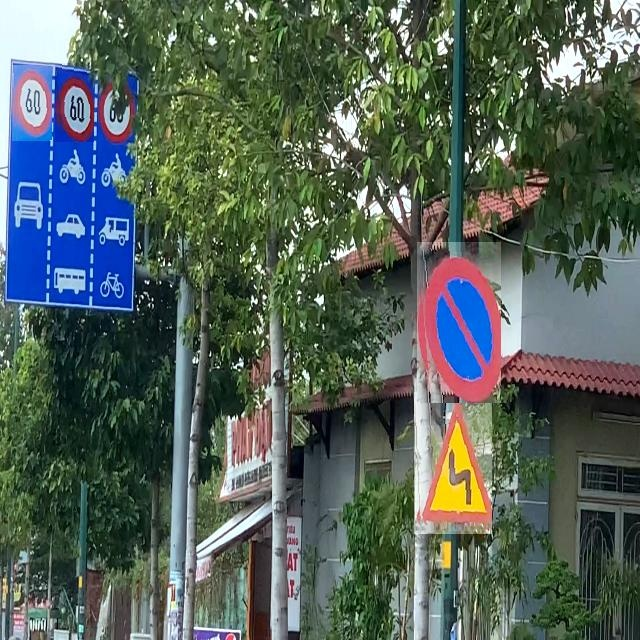bien_nguy_hiem: (417, 242, 501, 403), (414, 392, 492, 534), (55, 63, 94, 142), (12, 66, 52, 142)
